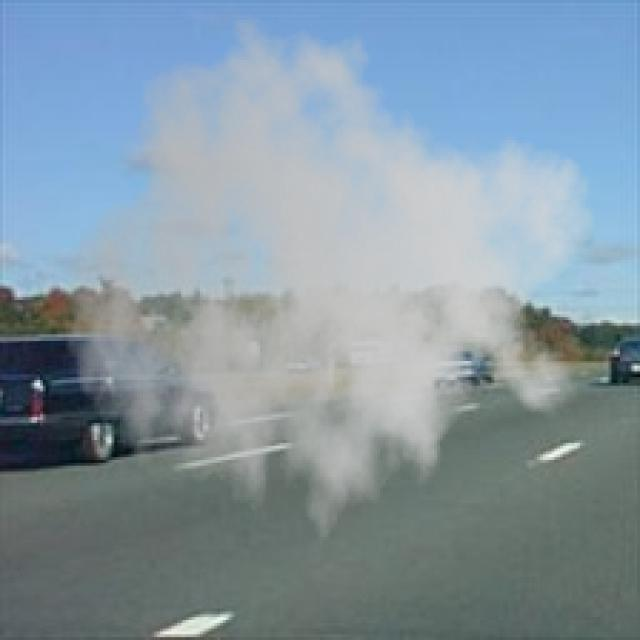Smoke: (65, 0, 598, 566)
